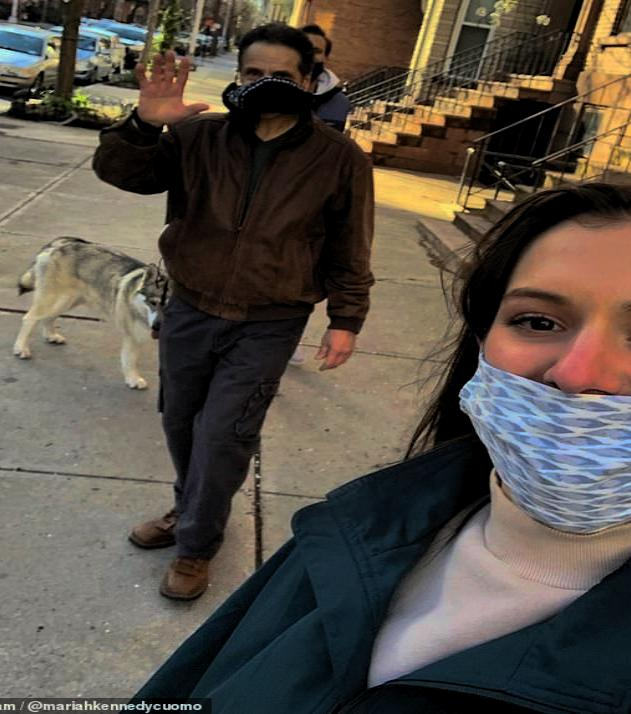mask_weared_incorrect: (455, 177, 630, 532)
